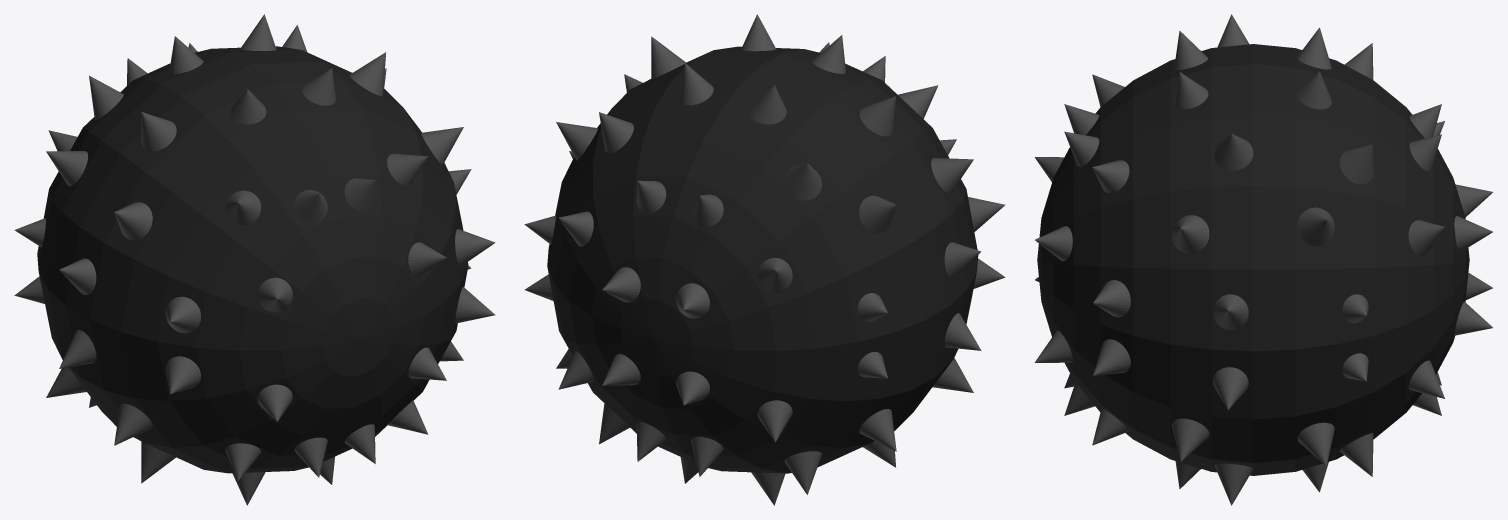
The model's file is spike_ball.obj.
The picture shows the model from 3 angles, left to right: view 1: azimuth 30°, elevation 25°; view 2: azimuth 150°, elevation 25°; view 3: azimuth 270°, elevation 25°; orthographic projection.
Parts seen in each view (by area): view 1: Sphere; view 2: Sphere; view 3: Sphere.
Boxes of the visible parts, bbox=[...] form: Sphere: bbox=[14, 14, 495, 505]; Sphere: bbox=[524, 14, 1005, 505]; Sphere: bbox=[1034, 14, 1492, 505].
Bounding box in the file's own units: 2.21 × 2.15 × 2.12.
Materials: 1 (1 with a texture image).
